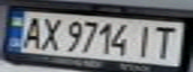1: (96, 20, 115, 55)
4: (109, 20, 133, 56)
7: (78, 19, 100, 54)
9: (60, 18, 84, 53)
A: (18, 14, 45, 50)
I: (130, 22, 160, 58)
T: (148, 24, 184, 60)
X: (36, 15, 63, 52)
